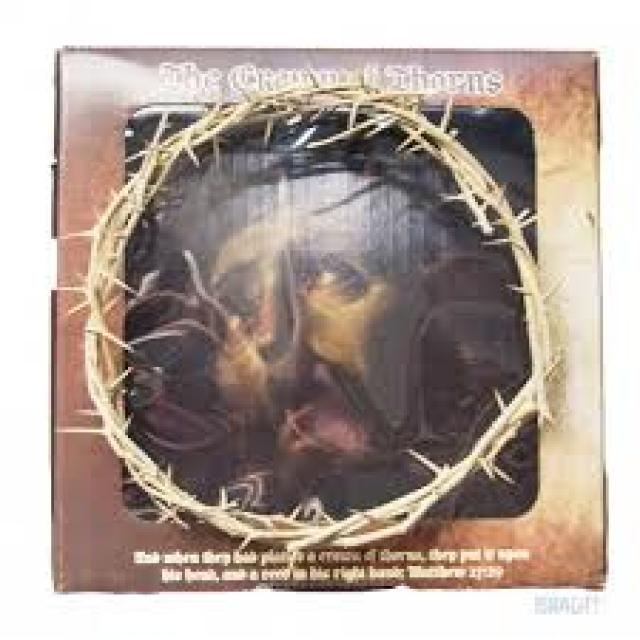crown: (72, 66, 573, 586)
